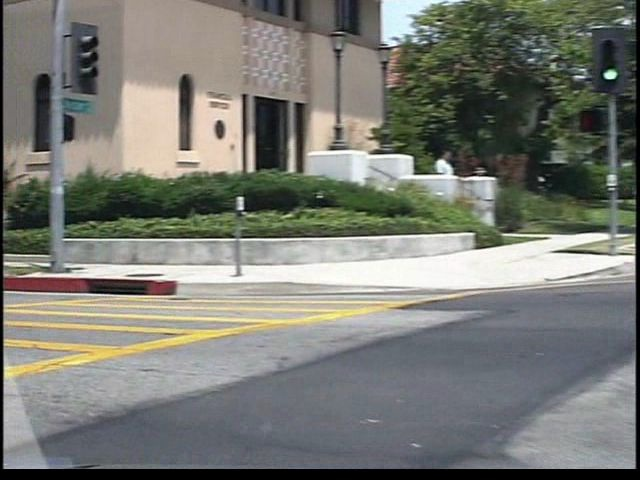person: (417, 145, 441, 222)
